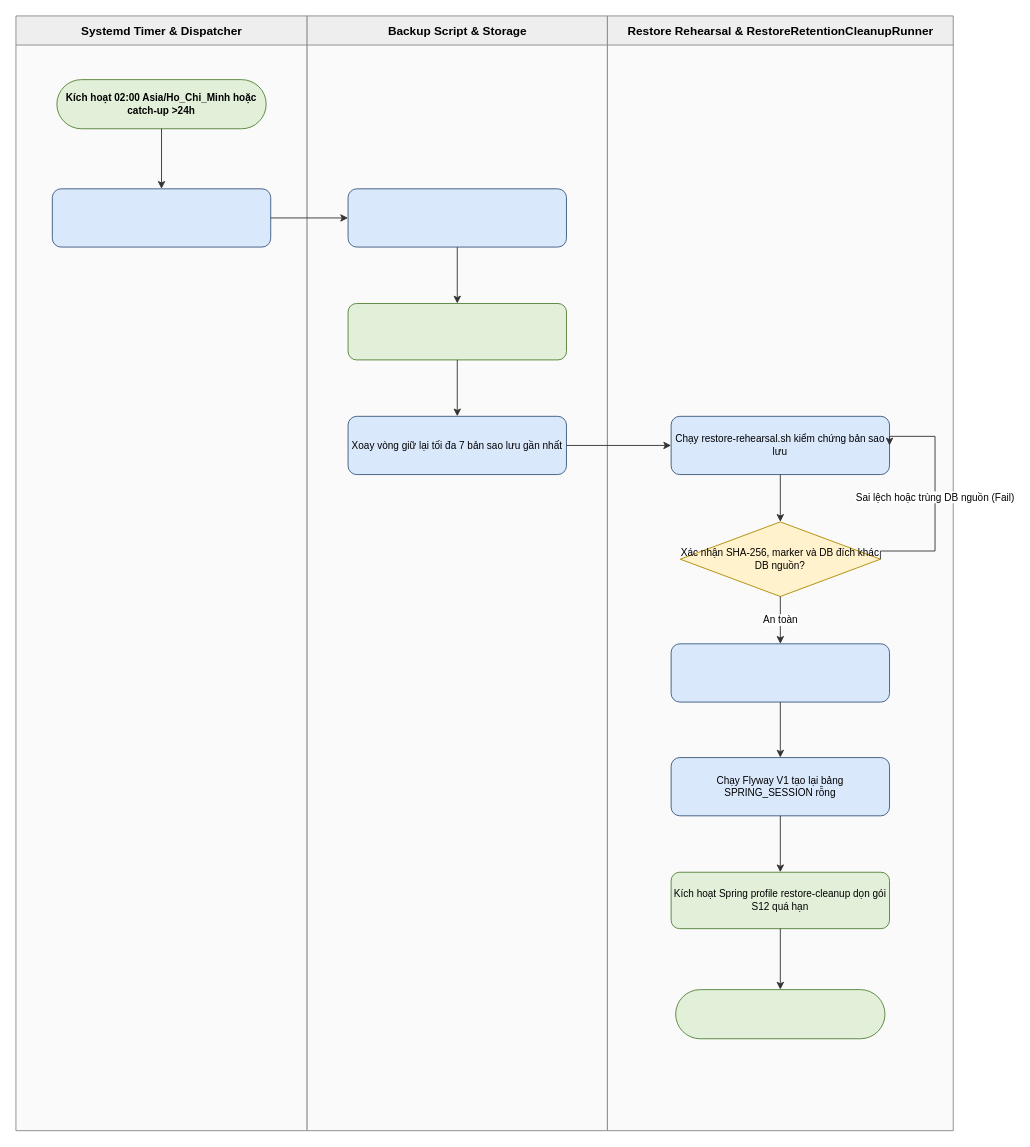
Image size: 1030x1147. Some labels were removed from this diagram. Here are the shapes that lost their labels. From the top down, the centre of each, then its label:
(161,217): Gọi backup.sh đọc cấu hình backup.conf
(456,217): Dump MySQL ngoại trừ SPRING_SESSION và SPRING_SESSION_ATTRIBUTES
(456,331): Tạo tệp .sql.gz, checksum SHA-256 và marker COMPLETED
(780,672): Tạo DB tạm bluemoon_restore_s13_* và nạp dữ liệu dump
(780,1014): Xuất JSON bằng chứng Q5 và giữ hoặc xóa DB diễn tập
